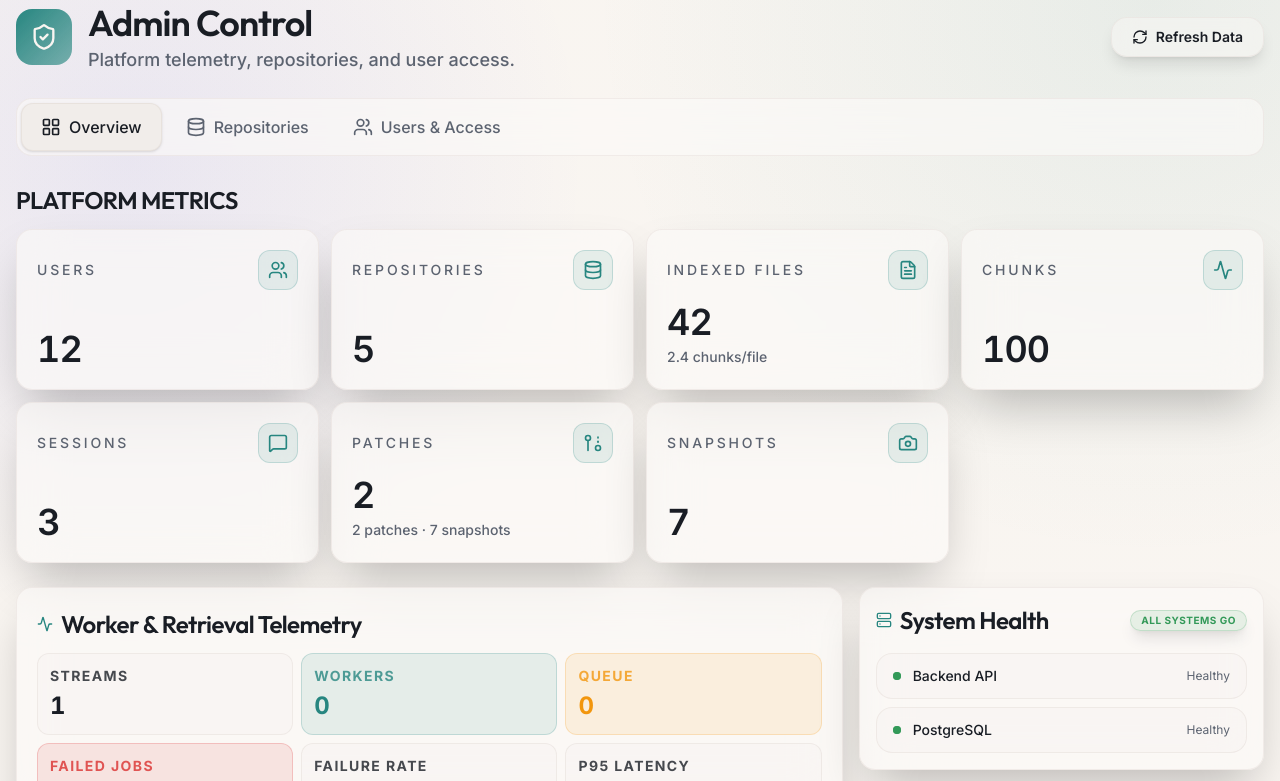
Test case: AdminDashboardPage › opens manage dialog when Manage is clicked
This screenshot has width=1280, height=781.
Step 1. Click the button "Users & Access" → (427, 127), box [333,103,521,151]
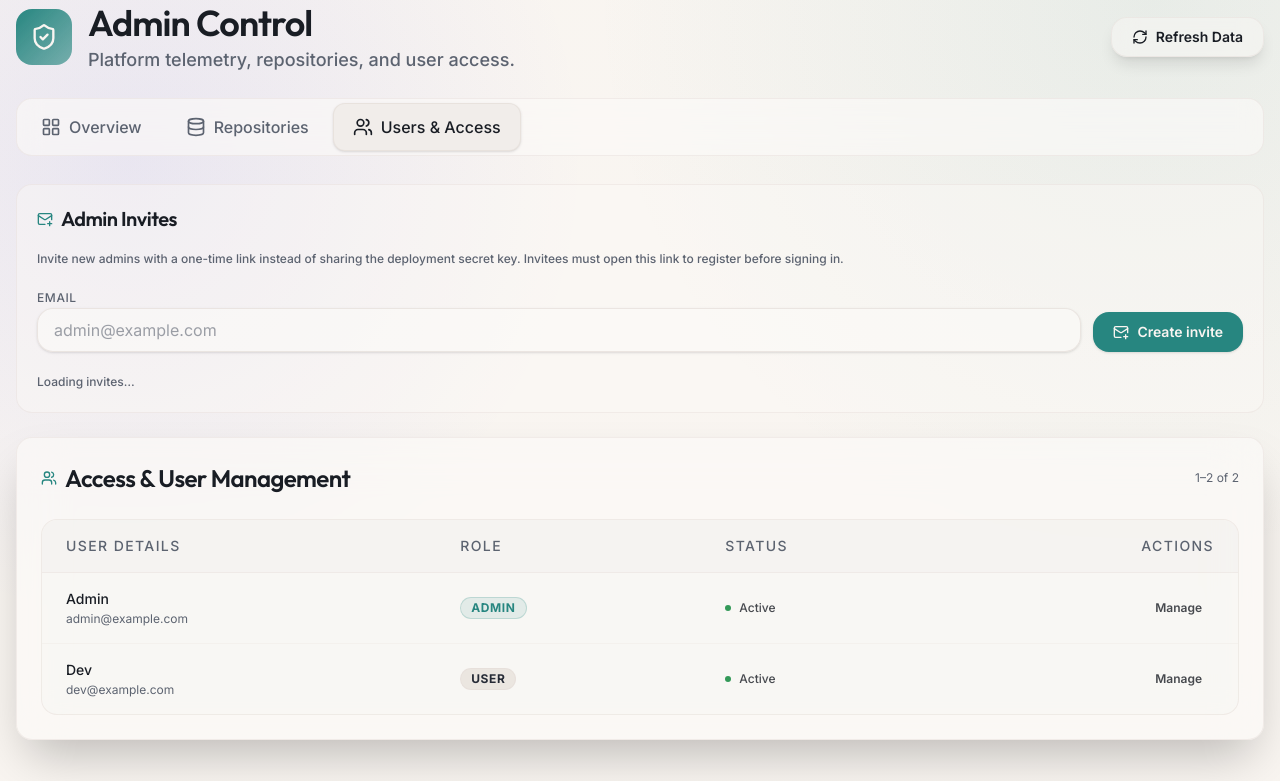
Step 2. Click the button "Manage" in the row of "admin@example.com" → (1179, 608), box [1143,592,1214,624]
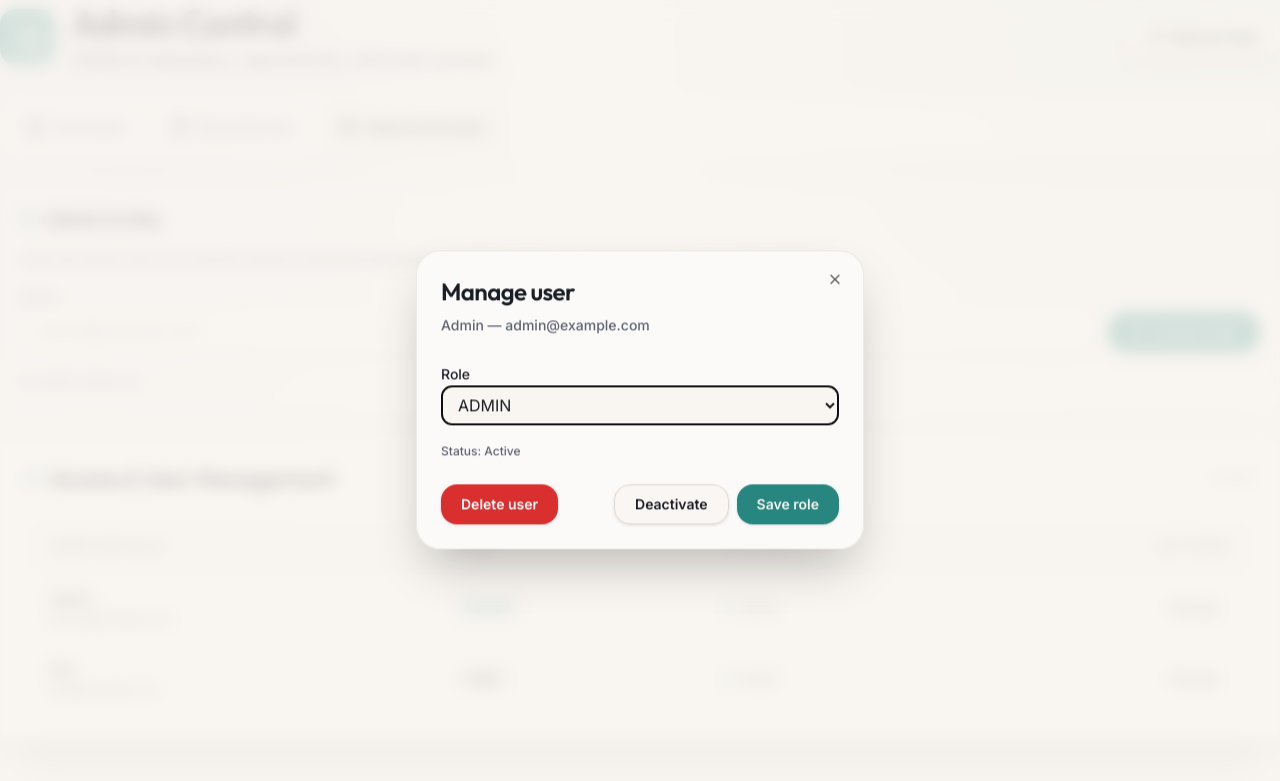
expect the dialog is shown: met, box [416,250,864,550]
expect the heading "Manage user" is shown: met, box [441,276,575,306]
